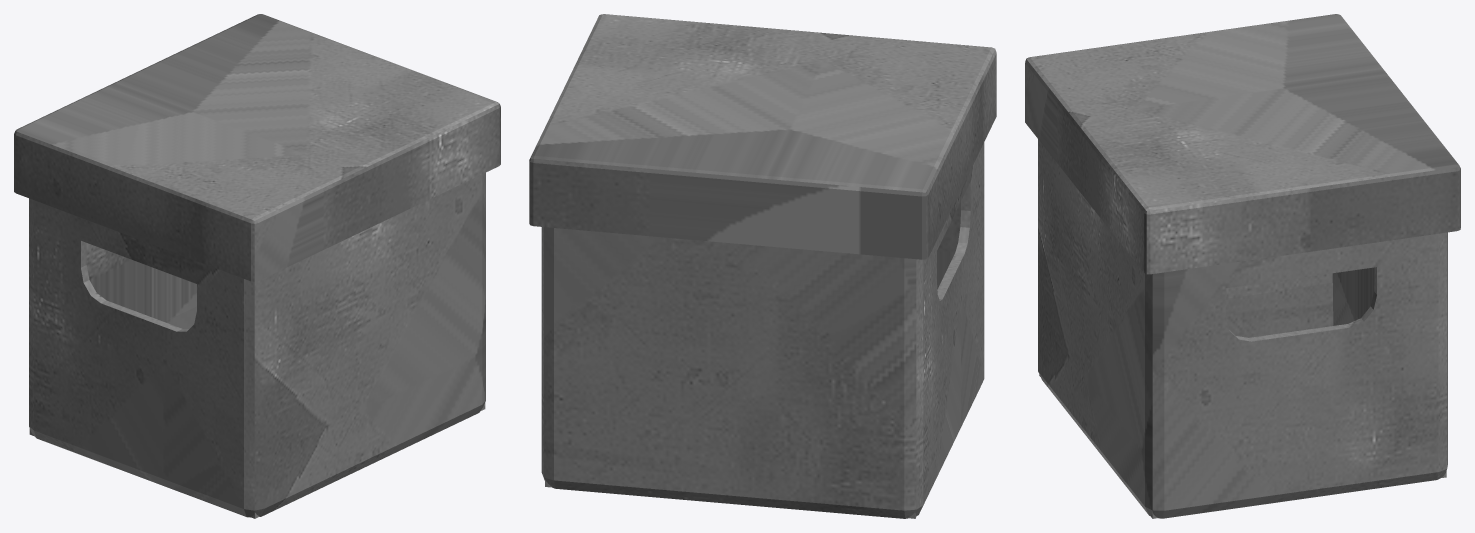
Rendered from pappkarton.obj.
3 renders of one model, left to right at view 1: azimuth 30°, elevation 25°; view 2: azimuth 150°, elevation 25°; view 3: azimuth 270°, elevation 25°, orthographic. The views are drawn at different scales.
Parts seen in each view (by area): view 1: kiste.001, deckel.001; view 2: kiste.001, deckel.001; view 3: kiste.001, deckel.001.
Part boxes in pixels (x1,y1,x2,y2): kiste.001: [29, 172, 485, 518]; deckel.001: [14, 14, 500, 281]; kiste.001: [541, 142, 984, 518]; deckel.001: [529, 14, 996, 259]; kiste.001: [1038, 139, 1447, 518]; deckel.001: [1025, 14, 1460, 274].
Bounding box in the file's own units: 7.39 × 5.58 × 6.87.
